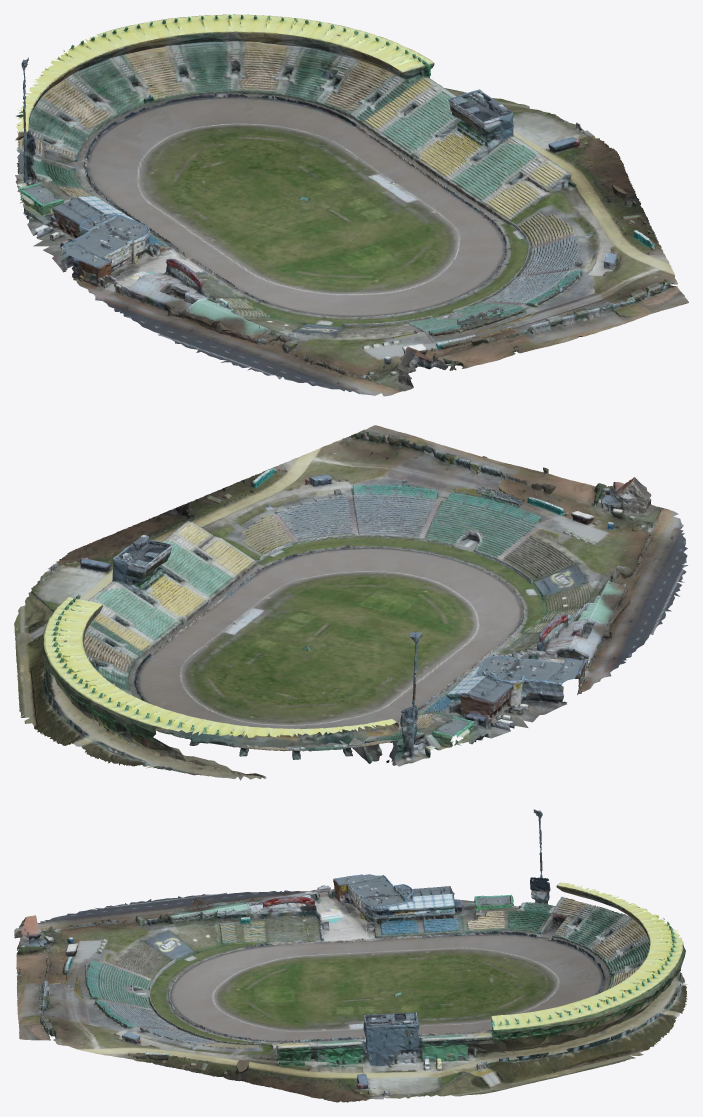
The model's file is stadZGc.glb.
3 renders of one model, top to bottom at view 1: azimuth 30°, elevation 25°; view 2: azimuth 150°, elevation 25°; view 3: azimuth 270°, elevation 25°, orthographic. The views are drawn at different scales.
Visible parts, largest first — view 1: Object_0; view 2: Object_0; view 3: Object_0.
Boxes of the visible parts, x1,y1,x2,y2 form: Object_0: (15, 14, 688, 396); Object_0: (14, 425, 687, 780); Object_0: (14, 809, 687, 1102).
Size of the model in its own units: 177 by 42.36 by 231.
Materials: 2 (2 with a texture image).
